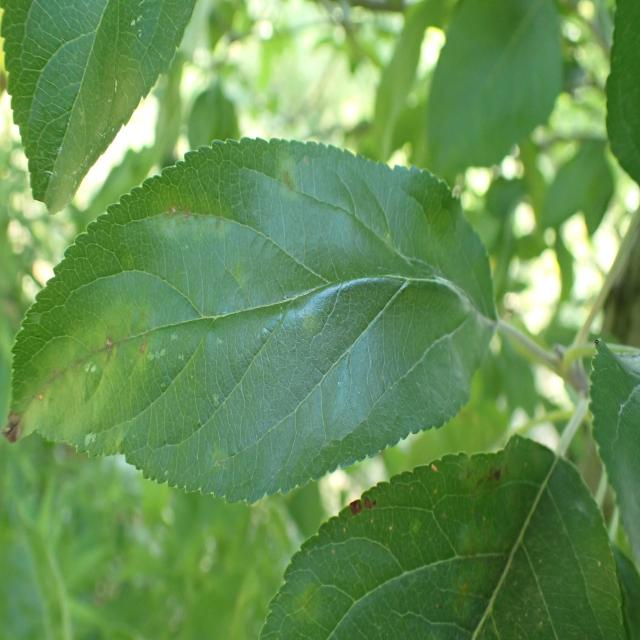scab: (14, 156, 478, 443), (338, 417, 540, 587)
